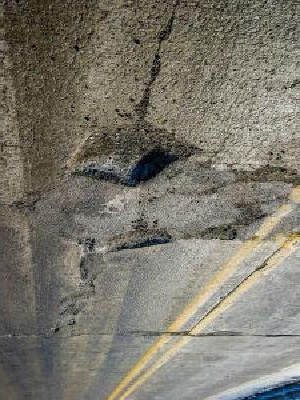pothole: (63, 117, 199, 188), (230, 162, 299, 190), (104, 228, 175, 254), (194, 224, 240, 243)
